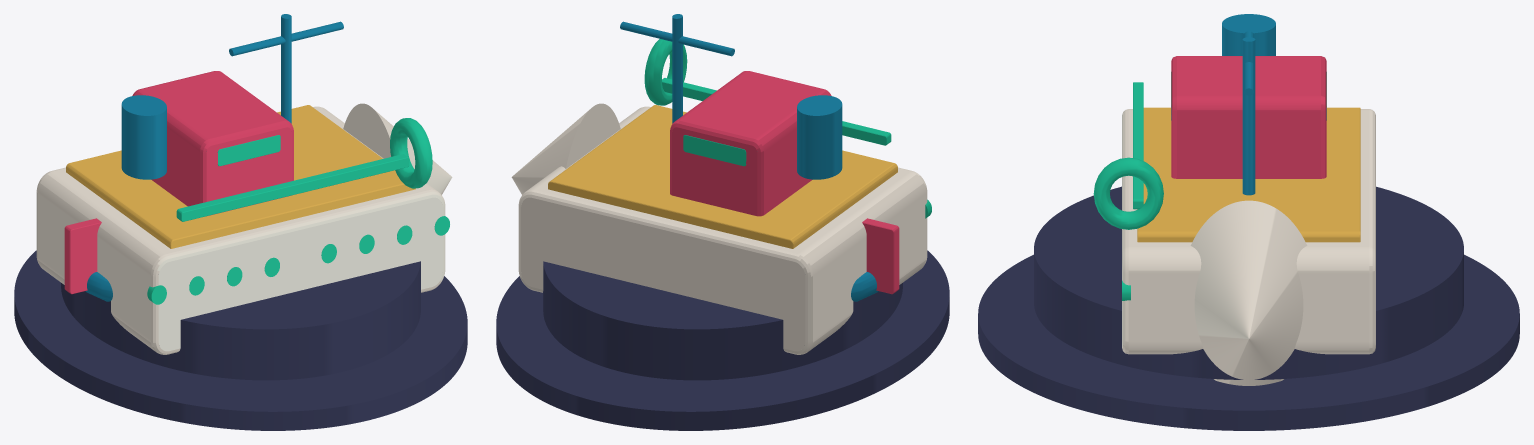
Rendered from 1121_左传_泛舟之役.glb.
The picture shows the model from 3 angles, left to right: view 1: azimuth 30°, elevation 25°; view 2: azimuth 150°, elevation 25°; view 3: azimuth 270°, elevation 25°; orthographic projection. The views are drawn at different scales.
Visible parts, largest first — view 1: card_1121; view 2: card_1121; view 3: card_1121.
Part boxes in pixels (x1,y1,x2,y2): card_1121: [14, 14, 467, 430]; card_1121: [496, 14, 949, 430]; card_1121: [978, 14, 1519, 430].
Bounding box in the file's own units: 1.39 × 1 × 1.54.
